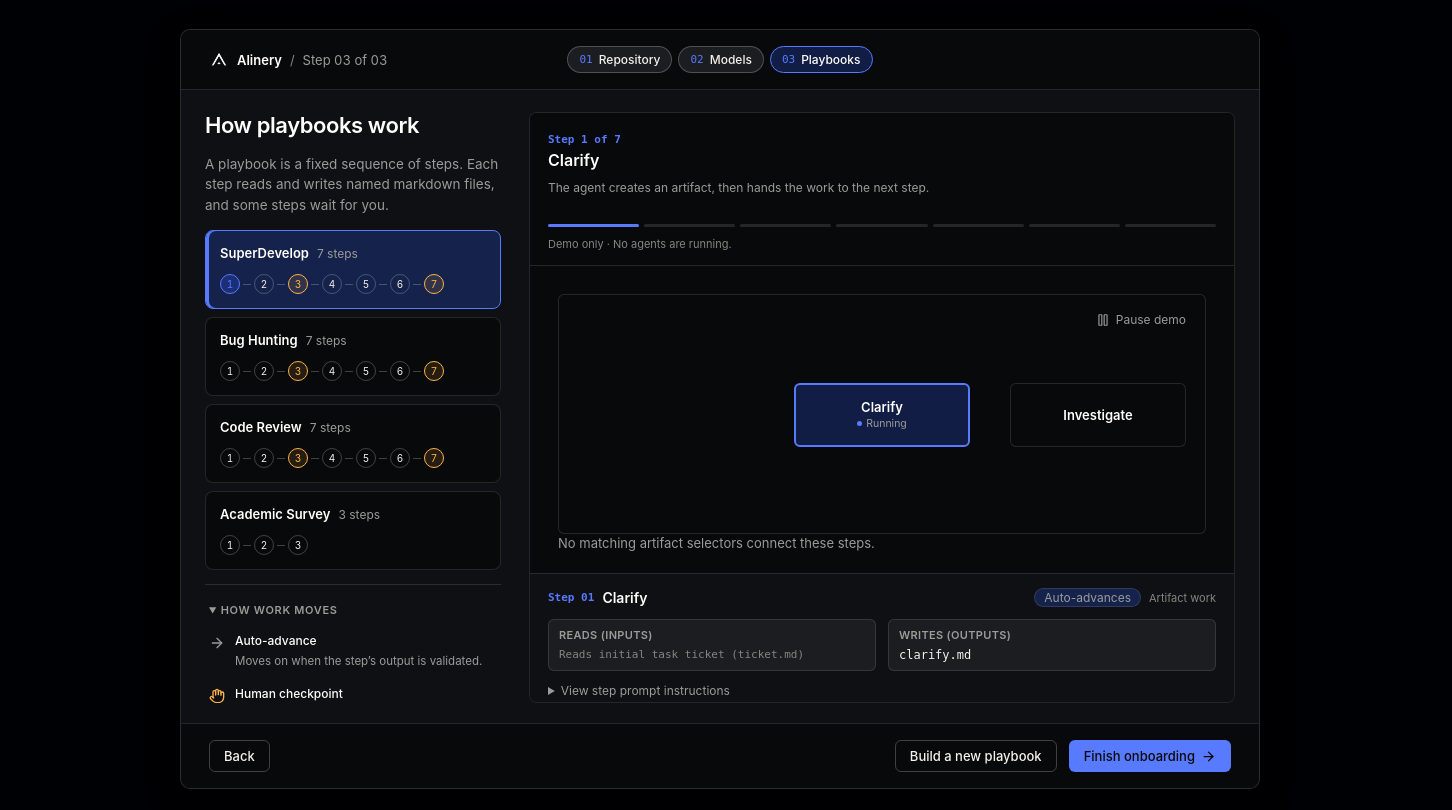
it: OnboardingFlow wizard › opens the mechanics guide by default and lets users collapse and reopen it
Click the heading "How work moves" at (279, 610), box [221, 603, 338, 617]
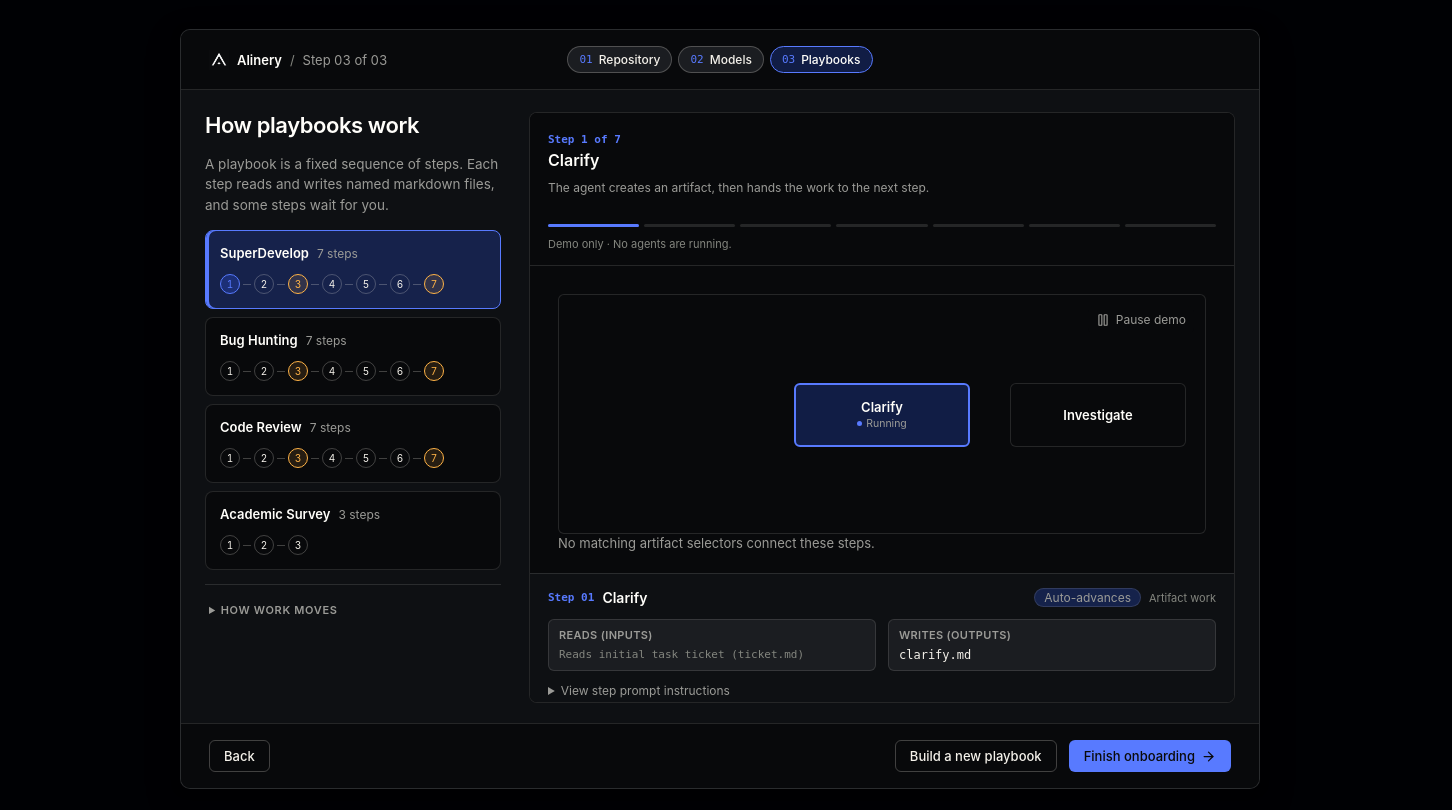
Click the heading "How work moves" at (279, 610), box [221, 603, 338, 617]
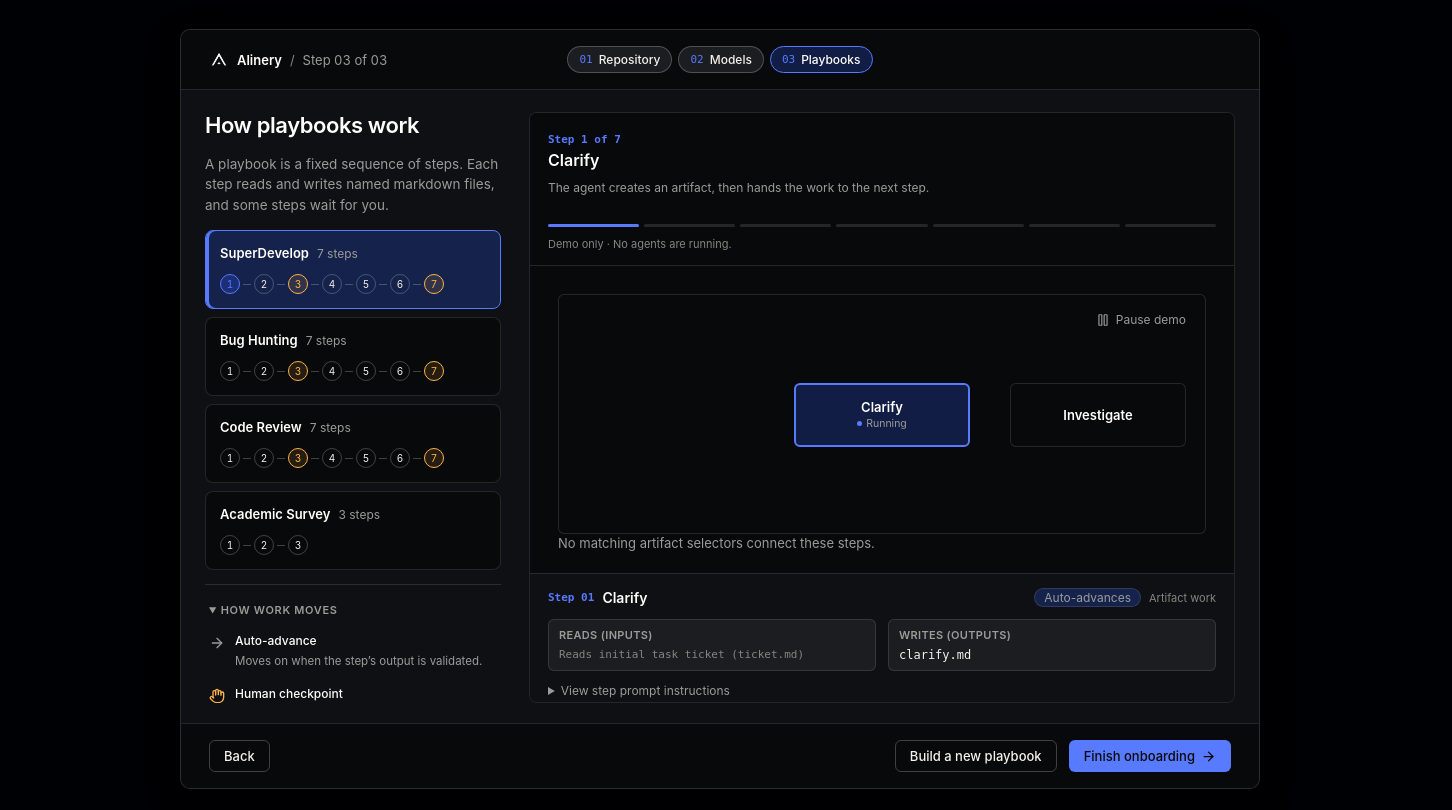
Expected: the number of list items is 3
Expected: the heading "Auto-advance" is shown, [235, 633, 317, 648]
Expected: the heading "Human checkpoint" is shown, [235, 686, 343, 701]
